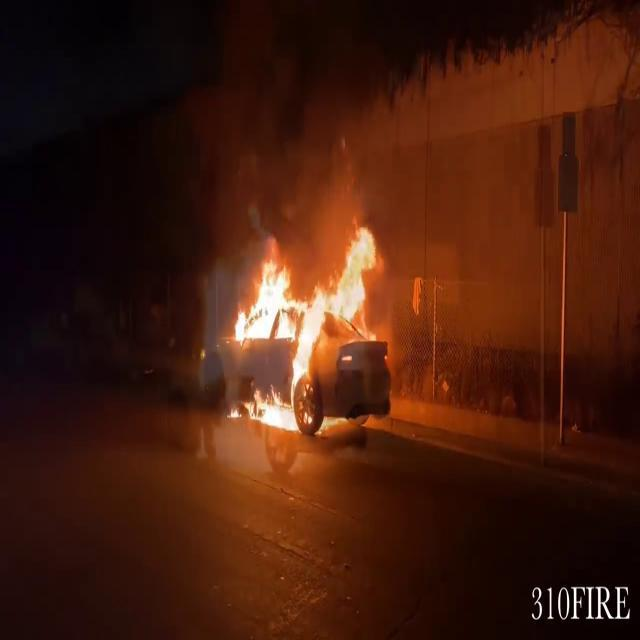Fire: (220, 204, 384, 432)
Smoke: (168, 1, 378, 230)
